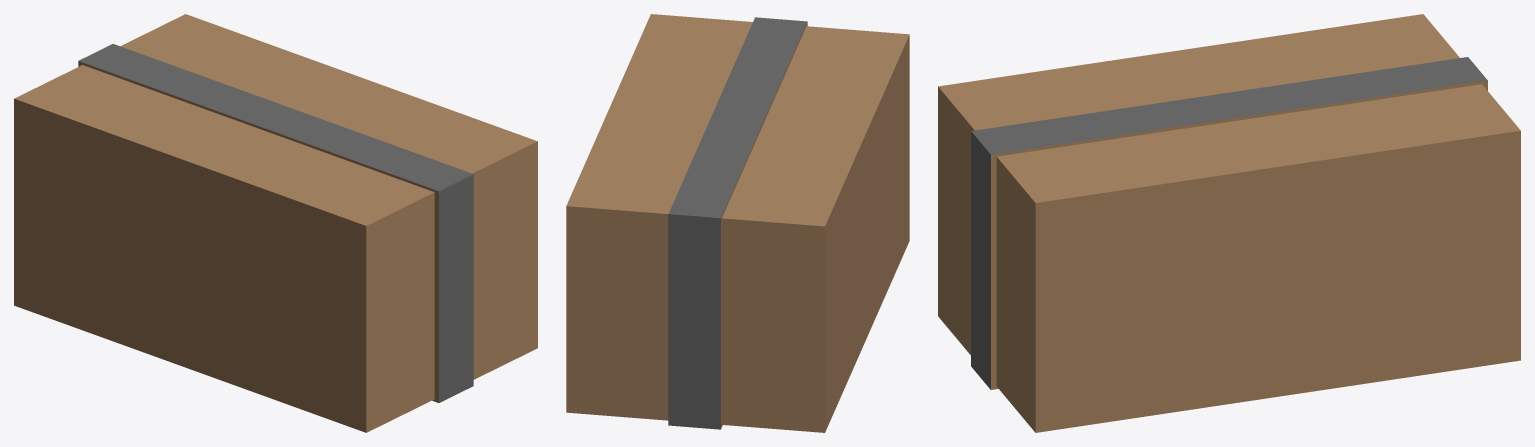
File: Cafe.fbx
3 renders of one model, left to right at view 1: azimuth 30°, elevation 25°; view 2: azimuth 150°, elevation 25°; view 3: azimuth 270°, elevation 25°, orthographic. The views are drawn at different scales.
Visible parts, largest first — view 1: Cube; view 2: Cube; view 3: Cube.
Boxes of the visible parts, <box> form: Cube: <box>14,14,537,432</box>; Cube: <box>566,14,909,432</box>; Cube: <box>938,14,1520,432</box>.
Bounding box in the file's own units: 174 × 101 × 226.
